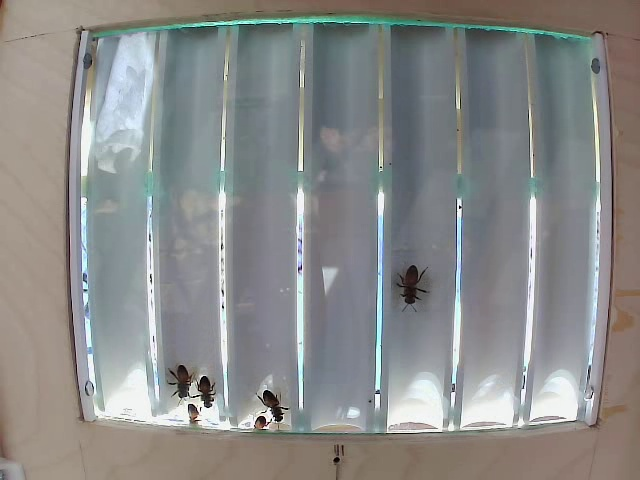bee: (387, 256, 437, 319), (259, 383, 298, 429), (163, 356, 191, 400), (192, 380, 220, 413)
